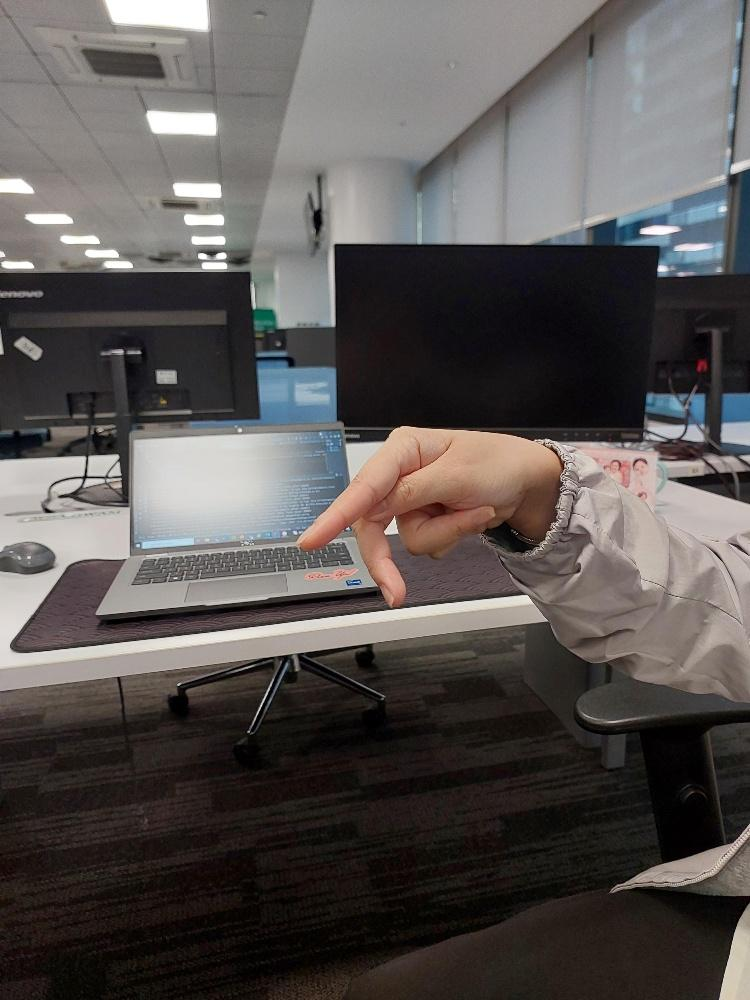p: (298, 424, 513, 604)
